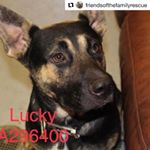puppy: (2, 15, 124, 122)
